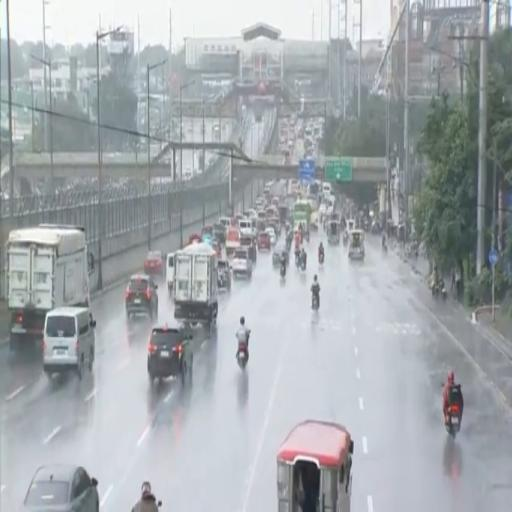bus: (294, 200, 311, 226)
car: (22, 464, 99, 511), (147, 323, 193, 383), (126, 275, 158, 319), (231, 248, 252, 279), (144, 251, 163, 275), (241, 235, 257, 262), (272, 243, 289, 266), (218, 261, 231, 291), (213, 223, 226, 245), (257, 232, 270, 250), (265, 227, 276, 245)
motorcycle: (237, 330, 250, 370), (446, 405, 460, 439), (132, 499, 162, 511), (432, 280, 447, 301), (312, 294, 318, 311), (295, 253, 300, 268), (300, 258, 306, 270), (280, 264, 285, 278), (343, 233, 348, 247), (319, 252, 324, 264), (382, 244, 387, 255), (305, 231, 309, 243)
truck: (6, 224, 94, 349), (173, 244, 218, 331)
